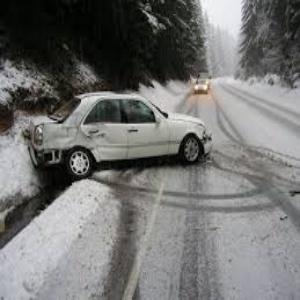door: (88, 124, 127, 165)
